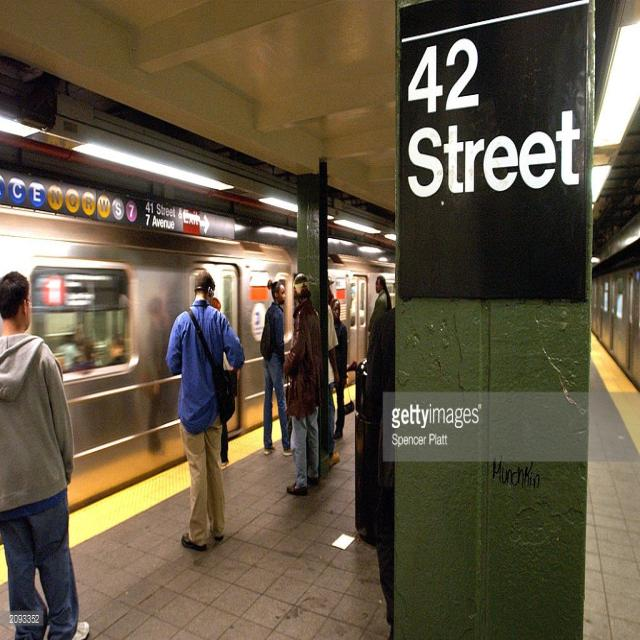body: (0, 266, 92, 639), (163, 263, 248, 556), (362, 298, 396, 640), (280, 271, 326, 501), (257, 275, 297, 459), (52, 313, 128, 369), (330, 296, 350, 442), (326, 276, 340, 468), (367, 274, 392, 333), (210, 295, 222, 313)
